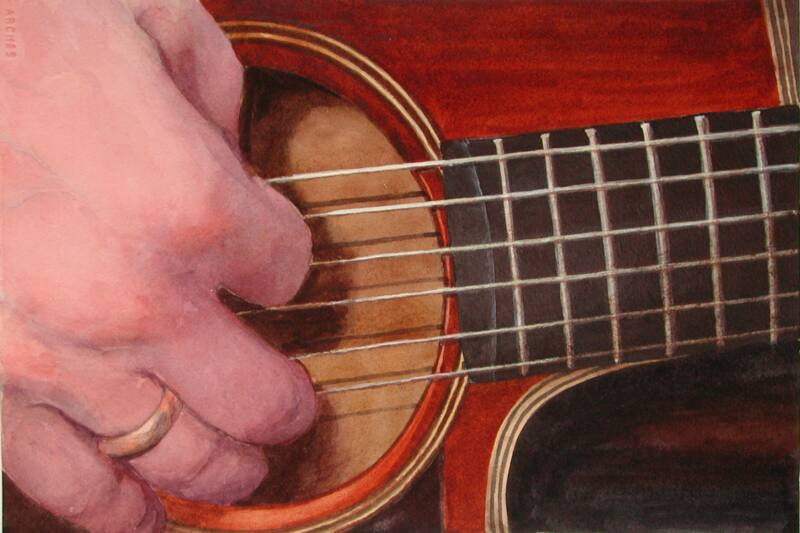guitar: (1, 1, 798, 533)
